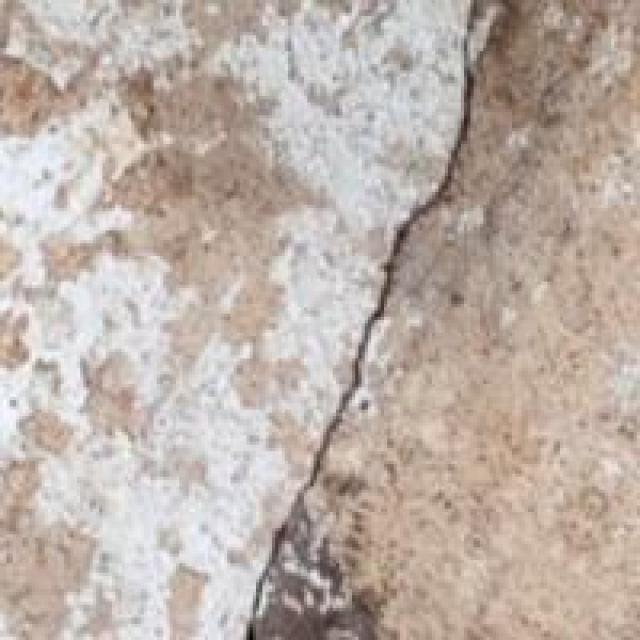Crack: (243, 0, 560, 637)
